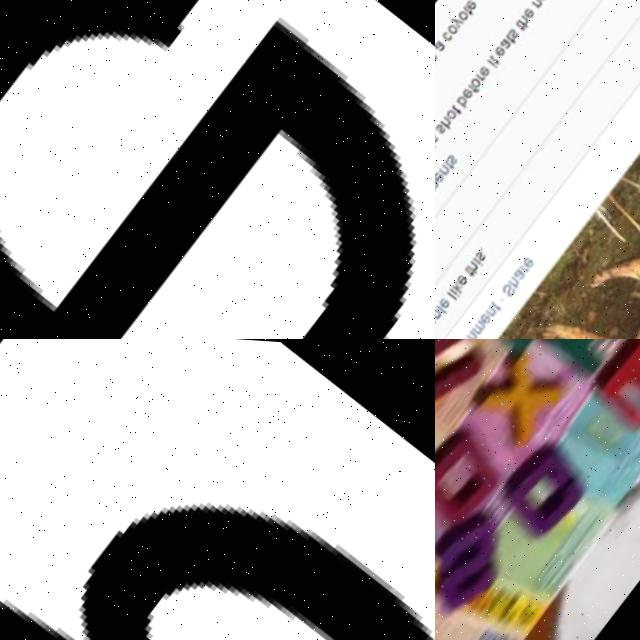A: (513, 263, 528, 278), (499, 35, 512, 48), (435, 36, 446, 51)
B: (456, 93, 470, 106)
C: (440, 28, 453, 41)
E: (0, 10, 417, 339), (522, 252, 536, 267), (438, 295, 453, 309), (492, 42, 507, 56), (480, 309, 494, 323), (477, 62, 491, 76), (457, 271, 470, 285), (522, 3, 536, 16), (461, 85, 474, 98), (435, 167, 446, 182), (463, 0, 477, 9)
F: (467, 81, 479, 91)
G: (492, 423, 602, 537)
H: (468, 258, 482, 272), (440, 114, 454, 128), (517, 12, 531, 26), (509, 273, 523, 286)
I: (450, 286, 461, 296), (487, 56, 498, 66), (473, 255, 485, 264)
K: (533, 339, 640, 377), (453, 279, 466, 292)
L: (437, 303, 449, 313), (447, 289, 459, 299)
M: (472, 316, 489, 334), (464, 327, 480, 339), (435, 175, 440, 193)
N: (486, 302, 499, 315), (438, 162, 451, 175), (530, 0, 543, 5)
O: (435, 415, 512, 528), (444, 20, 459, 35), (445, 107, 459, 120), (469, 75, 482, 88), (456, 7, 469, 20), (435, 311, 439, 326)
P: (78, 497, 435, 640), (435, 304, 444, 318)
R: (520, 261, 531, 270), (476, 70, 486, 79)
S: (435, 490, 529, 626), (501, 279, 519, 296), (474, 246, 488, 260), (507, 24, 520, 37), (446, 152, 459, 164), (435, 121, 447, 133), (435, 129, 441, 142), (435, 48, 438, 60)
T: (450, 101, 464, 114), (514, 18, 527, 30), (461, 3, 474, 14), (491, 298, 503, 309), (489, 52, 501, 63), (443, 158, 455, 168), (504, 32, 516, 42), (465, 265, 475, 275)
U: (435, 339, 505, 426)
W: (580, 339, 640, 426)
X: (465, 339, 578, 453)
Y: (449, 13, 463, 26)
